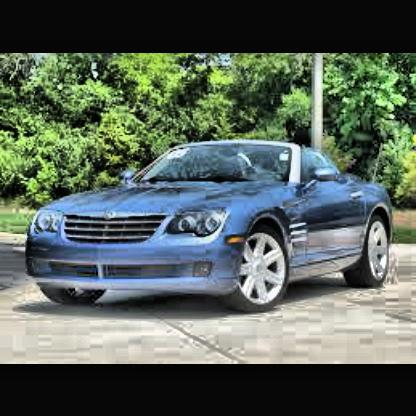Chrysler Crossfire Convertible 2008: (27, 142, 396, 315)
